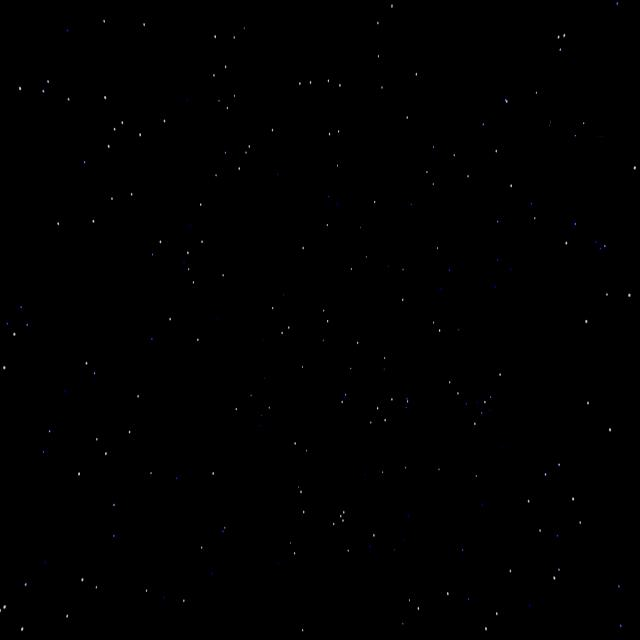medium_debris: (491, 93, 631, 211)
